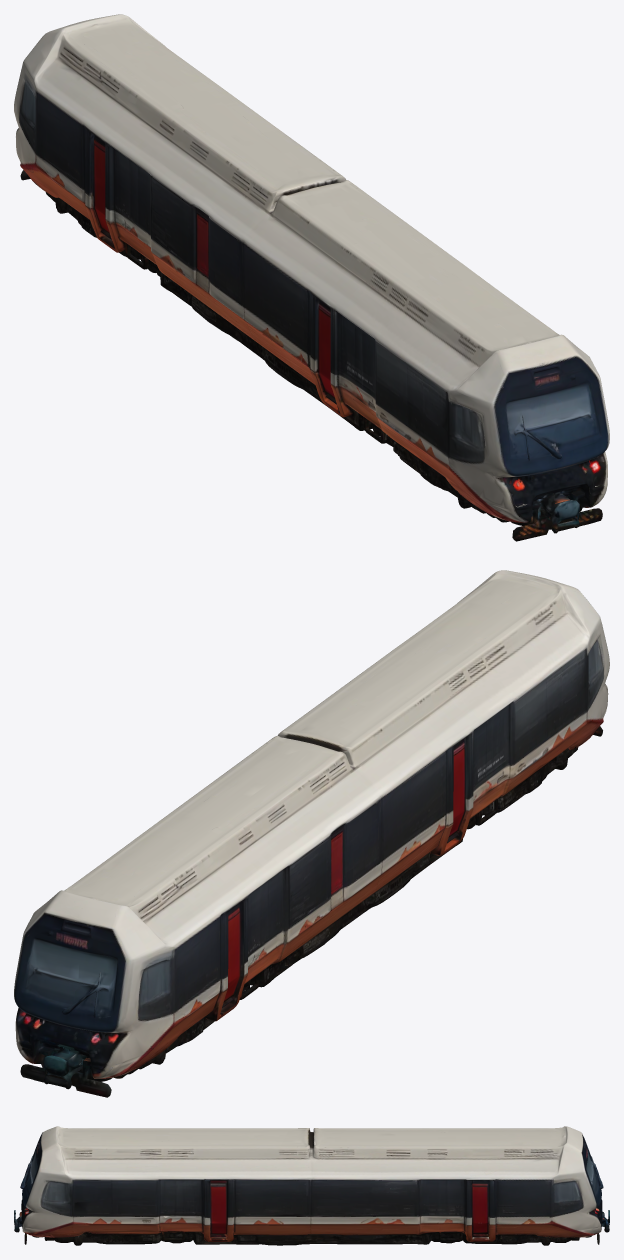
The picture shows the model from 3 angles, top to bottom: view 1: azimuth 30°, elevation 25°; view 2: azimuth 150°, elevation 25°; view 3: azimuth 270°, elevation 25°; orthographic projection. The views are drawn at different scales.
Visible parts, largest first — view 1: node_0; view 2: node_0; view 3: node_0.
Part boxes in pixels (<box>): node_0: <box>14,14,609,541</box>; node_0: <box>14,570,609,1097</box>; node_0: <box>14,1126,609,1245</box>.
Size of the model in its own units: 0.1869 by 0.2162 by 1.19.
1 material, 1 textured.
